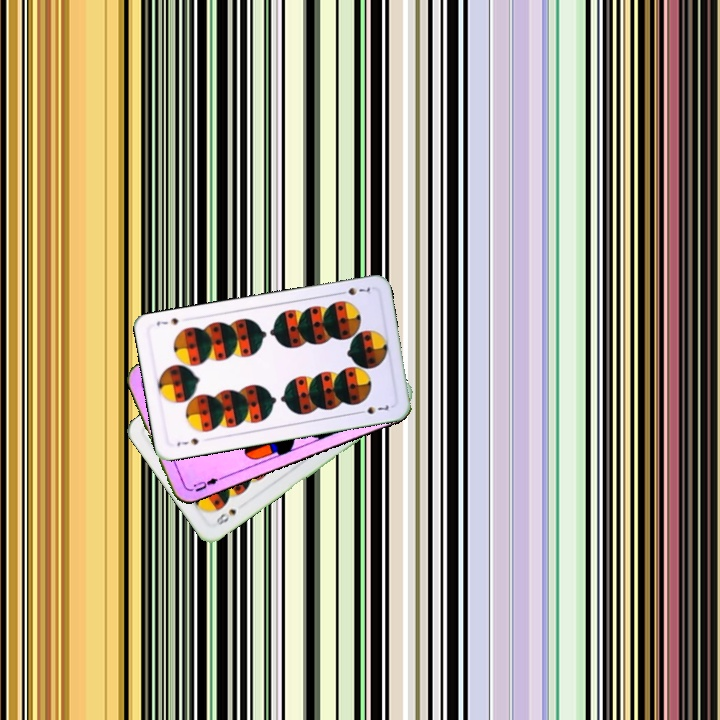EU: (189, 474, 220, 494)
S7: (334, 283, 375, 298), (173, 434, 201, 449)
S8: (212, 504, 239, 528)
